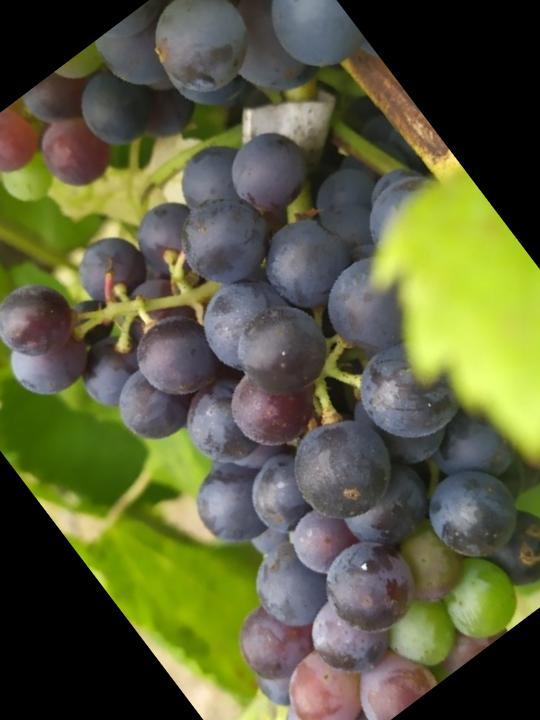grape: (0, 43, 540, 720)
